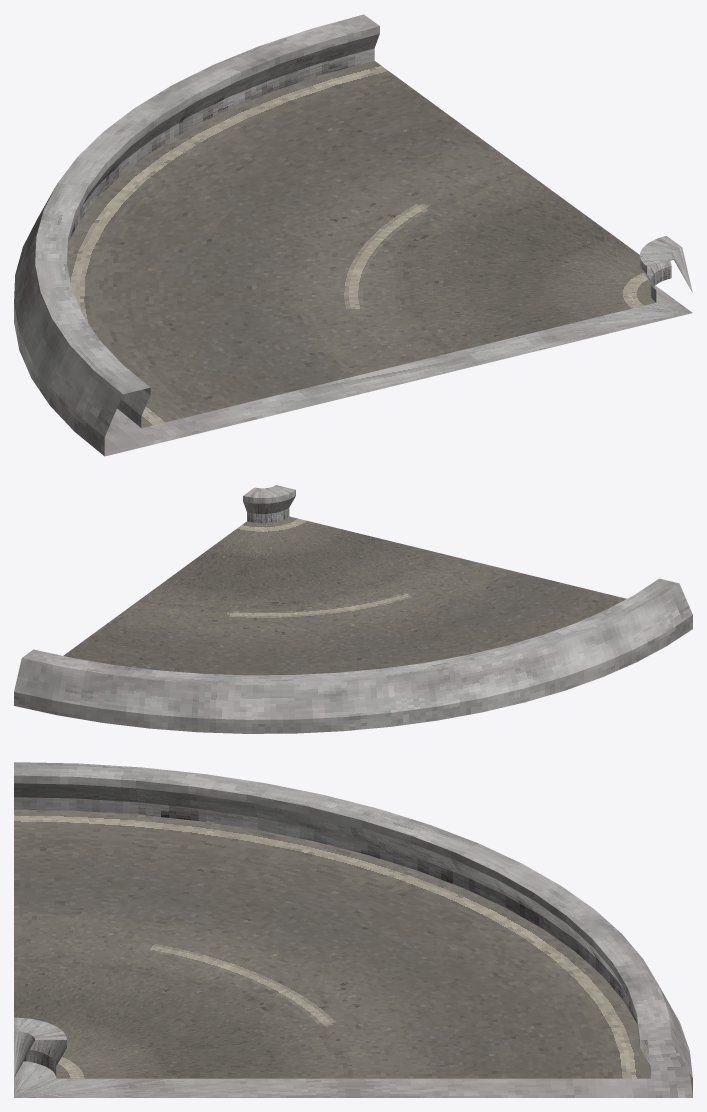
File: turn-right1x1.glb
3 renders of one model, top to bottom at view 1: azimuth 30°, elevation 25°; view 2: azimuth 150°, elevation 25°; view 3: azimuth 270°, elevation 25°, orthographic. The views are drawn at different scales.
Visible parts, largest first — view 1: road-Turn-Flat-Flat-Even-Right-Size1; view 2: road-Turn-Flat-Flat-Even-Right-Size1; view 3: road-Turn-Flat-Flat-Even-Right-Size1.
Part boxes in pixels (x1,y1,x2,y2): road-Turn-Flat-Flat-Even-Right-Size1: (14,14,692,456); road-Turn-Flat-Flat-Even-Right-Size1: (14,485,692,733); road-Turn-Flat-Flat-Even-Right-Size1: (14,762,692,1097).
Bounding box in the file's own units: 1 × 0.0938 × 1.
Materials: 2 (2 with a texture image).
